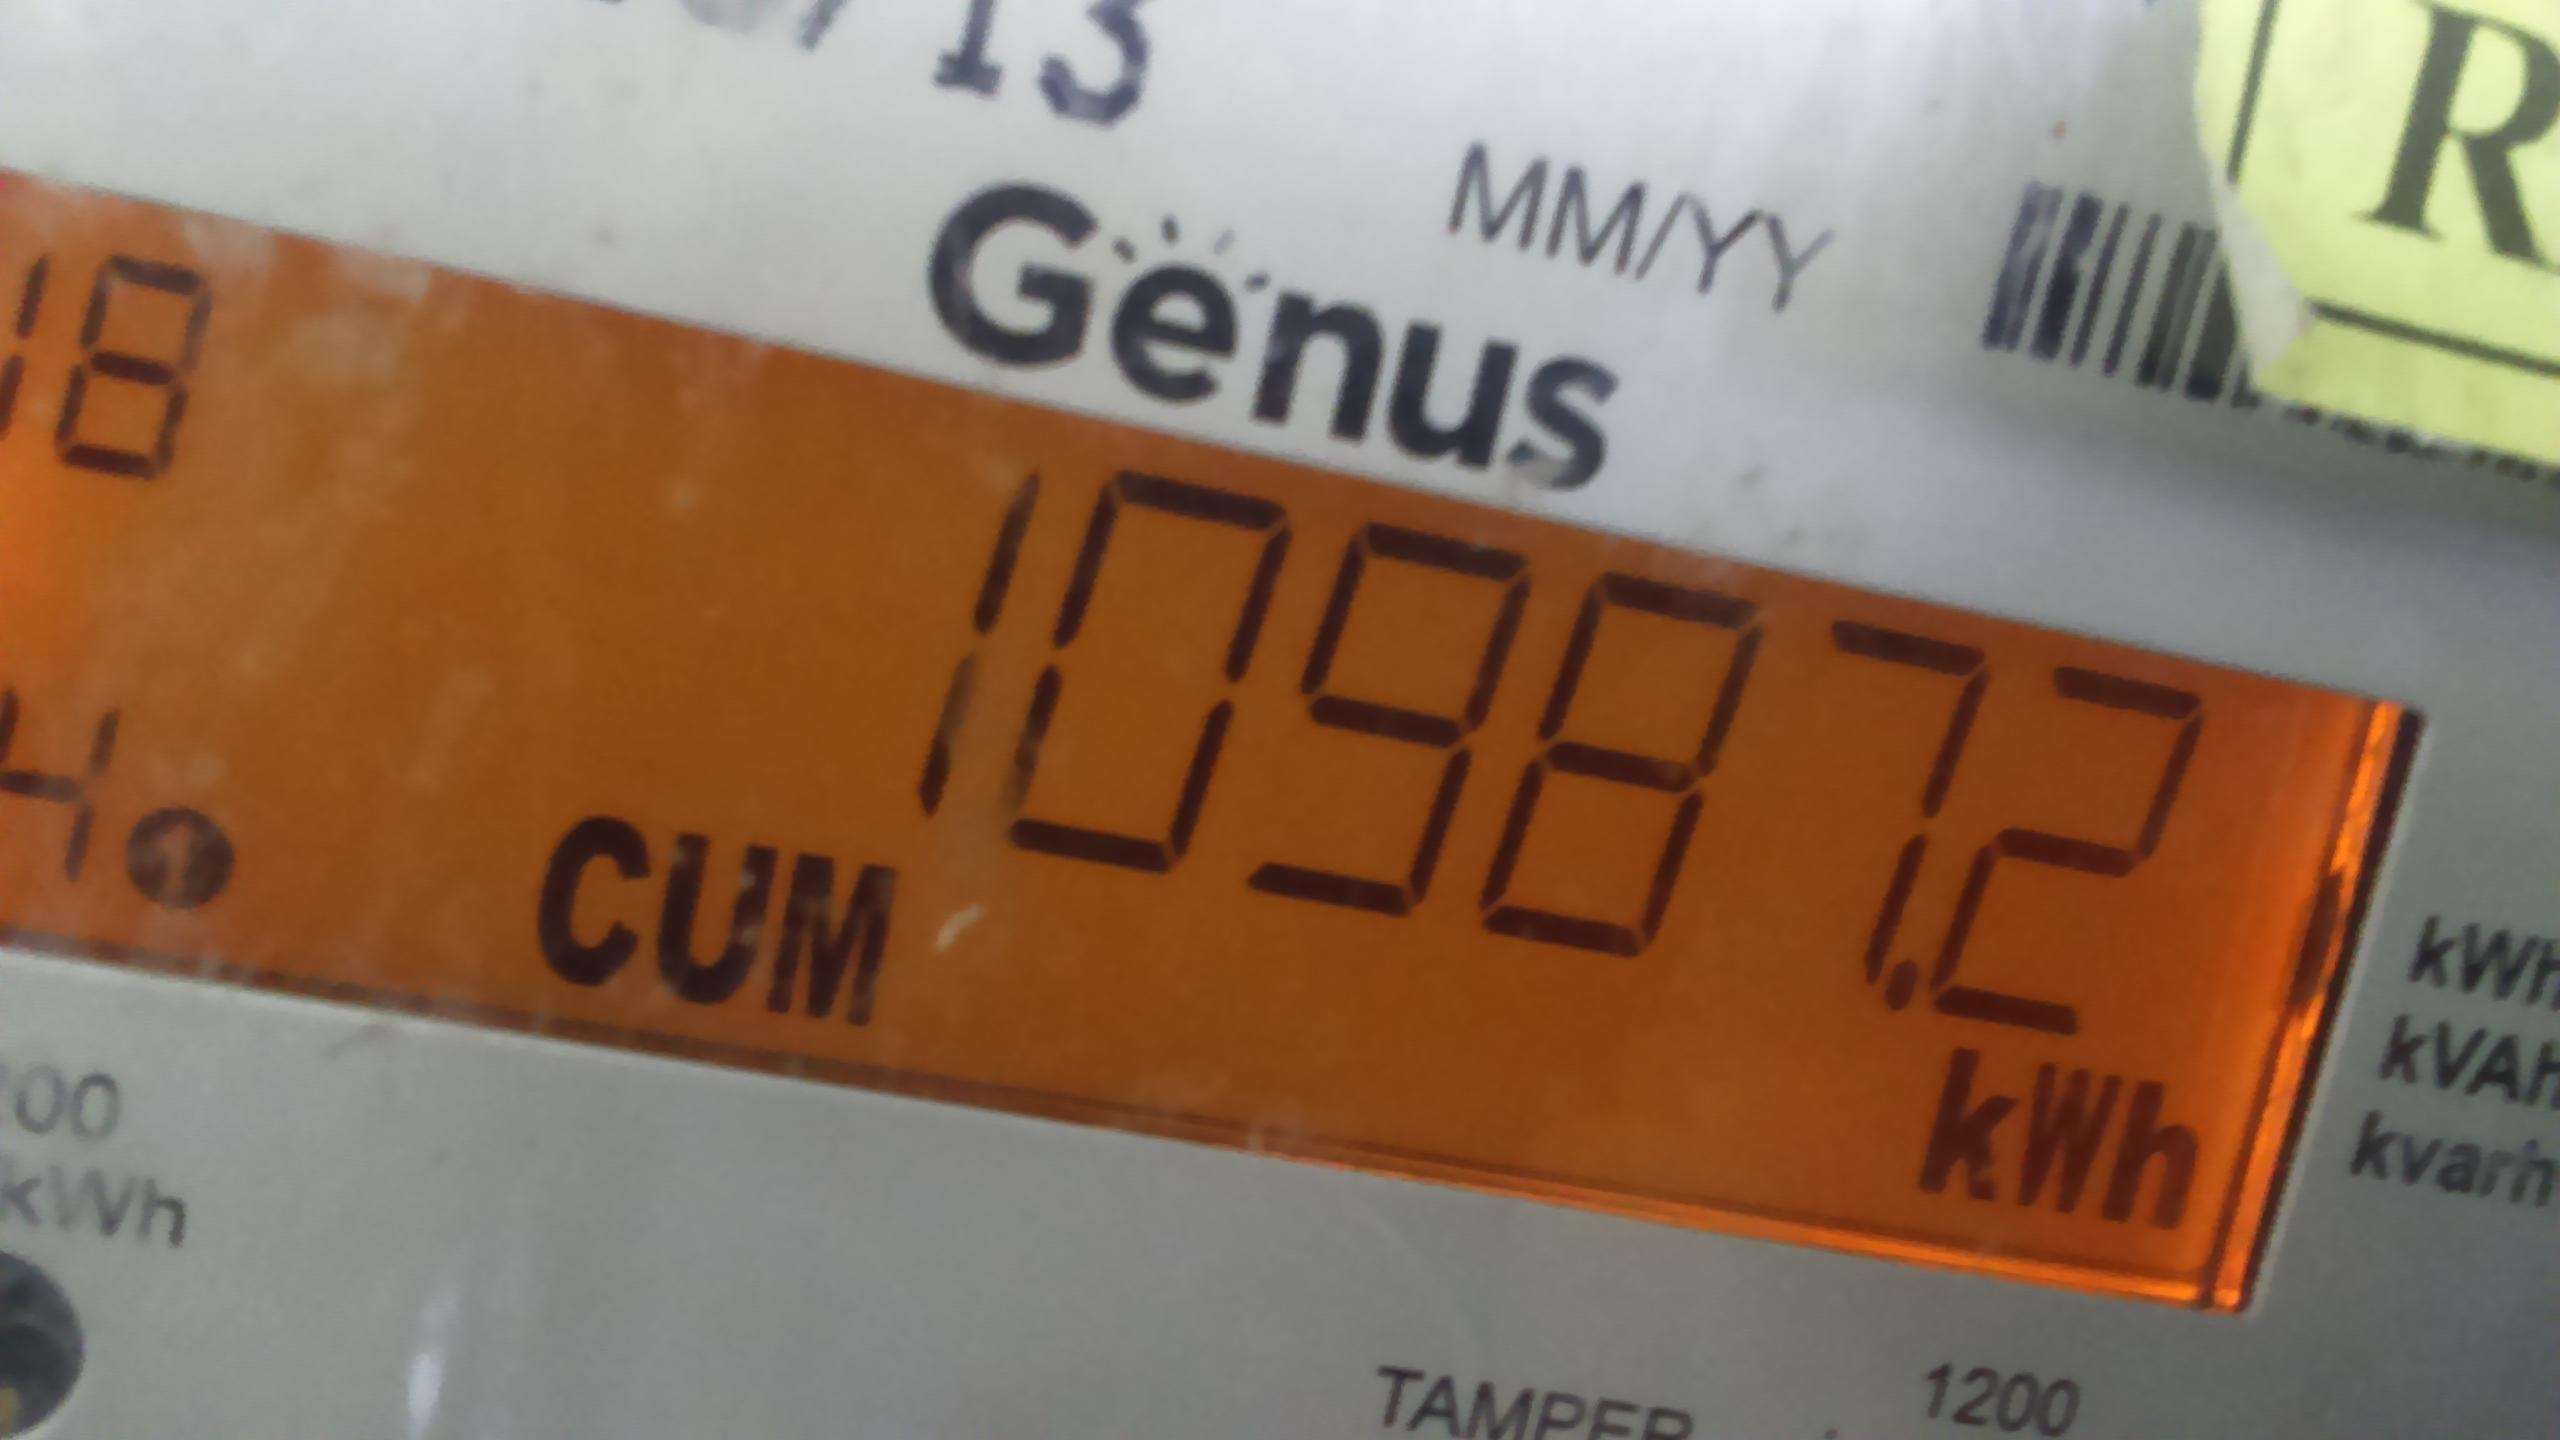.: (1916, 1050, 2207, 1257)
0: (1867, 913, 1946, 1043)
1: (964, 454, 1282, 902)
2: (855, 438, 1062, 812)
3: (1938, 628, 2272, 1080)
8: (1727, 603, 2027, 1013)
9: (1477, 538, 1816, 979)
:: (1215, 468, 1567, 979)
